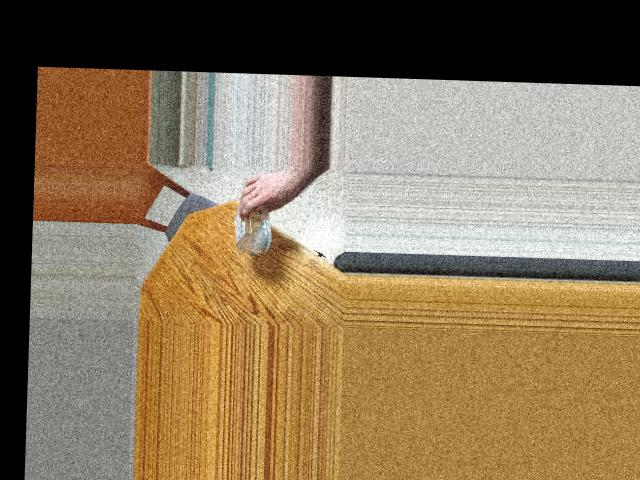cheese: (220, 198, 296, 255)
